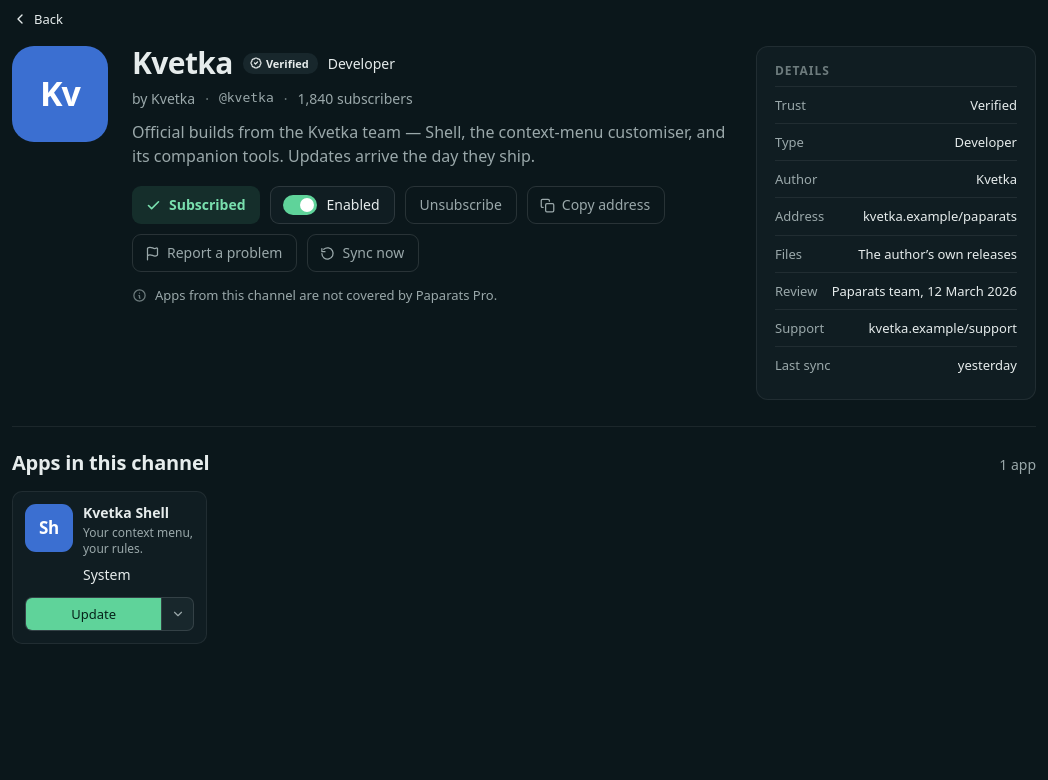
Test: ChannelScreen › unsubscribes and subscribes again (verified: no confirmation)
Expected: the heading "Kvetka" is shown, top-left (132, 46), bottom-right (233, 81)
Click the button "Unsubscribe" at (461, 205), box top-left (405, 186), bottom-right (517, 224)
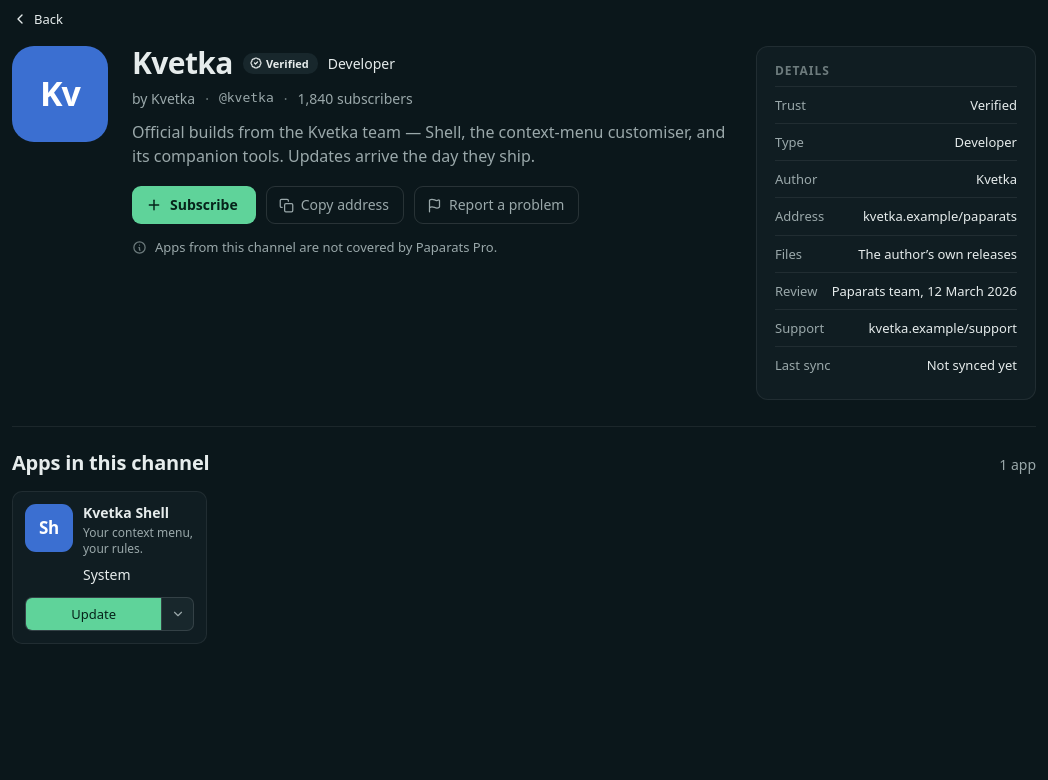
Now the text "Subscribed" is gone
Now the switch is gone
Click the button "Subscribe" at (194, 205), box top-left (132, 186), bottom-right (256, 224)
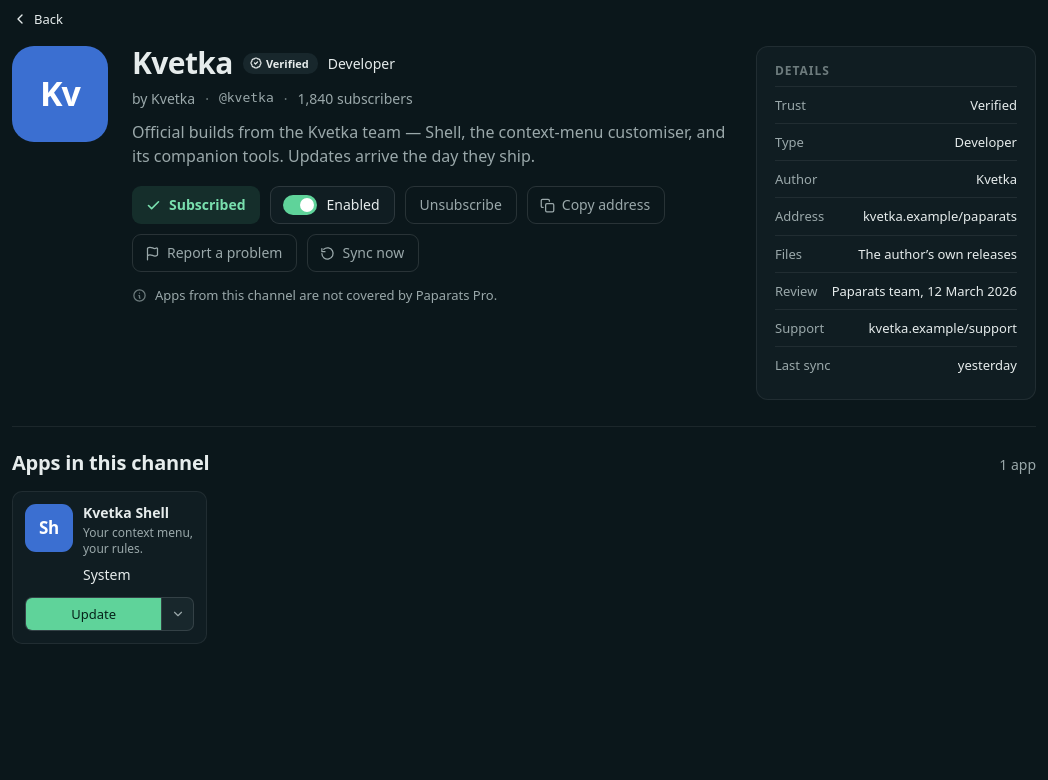
Now the text "Subscribed" is shown, box top-left (132, 186), bottom-right (260, 224)
Now the switch labelled "Enabled" is shown, box top-left (270, 186), bottom-right (395, 224)
